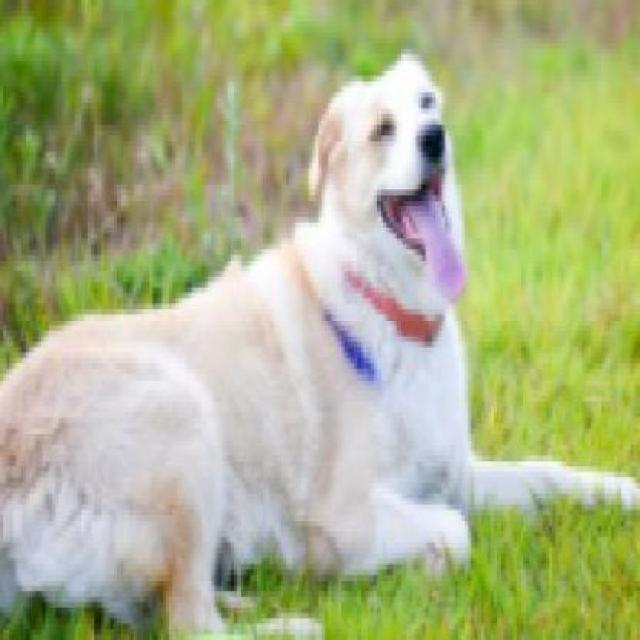Dog: (0, 49, 637, 634)
